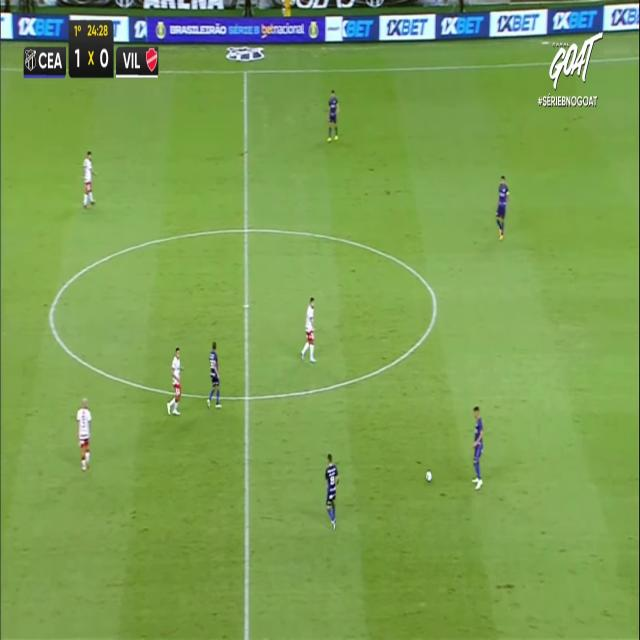ball: (426, 470, 432, 482)
player: (76, 397, 92, 470), (324, 452, 339, 528), (167, 347, 183, 415), (300, 296, 316, 362), (471, 405, 483, 487), (495, 175, 509, 240), (208, 341, 221, 408), (82, 150, 96, 207), (326, 88, 339, 141)
